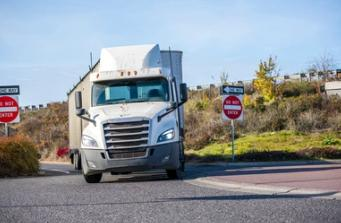vehicle: (67, 44, 187, 183)
